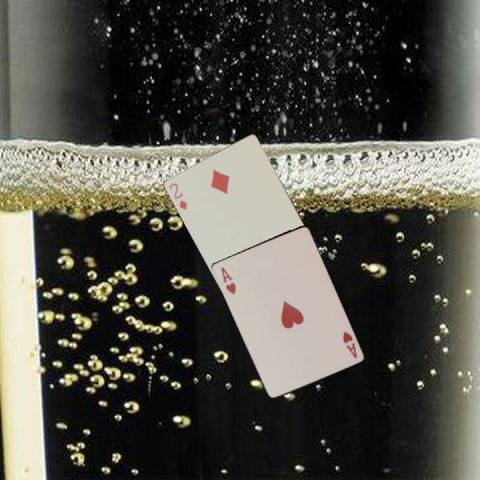2d: (166, 180, 188, 211)
Ah: (217, 264, 237, 296), (339, 328, 358, 359)
